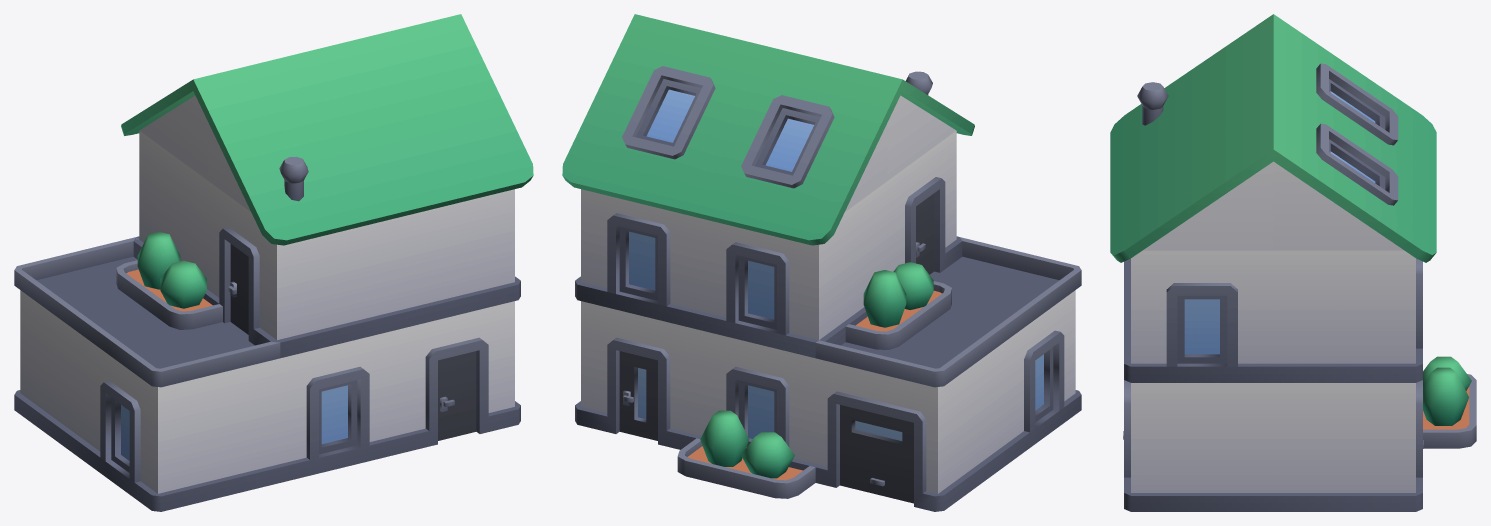
Rendered from house_suburb_o.glb.
The picture shows the model from 3 angles, left to right: view 1: azimuth 30°, elevation 25°; view 2: azimuth 150°, elevation 25°; view 3: azimuth 270°, elevation 25°; orthographic projection. The views are drawn at different scales.
Parts seen in each view (by area): view 1: building-type-o; view 2: building-type-o; view 3: building-type-o.
Part boxes in pixels (x1,y1,x2,y2): building-type-o: (14,14,533,511); building-type-o: (562,14,1081,511); building-type-o: (1110,14,1476,511).
Bounding box in the file's own units: 1.27 × 1.14 × 1.03.
Materials: 1 (1 with a texture image).
